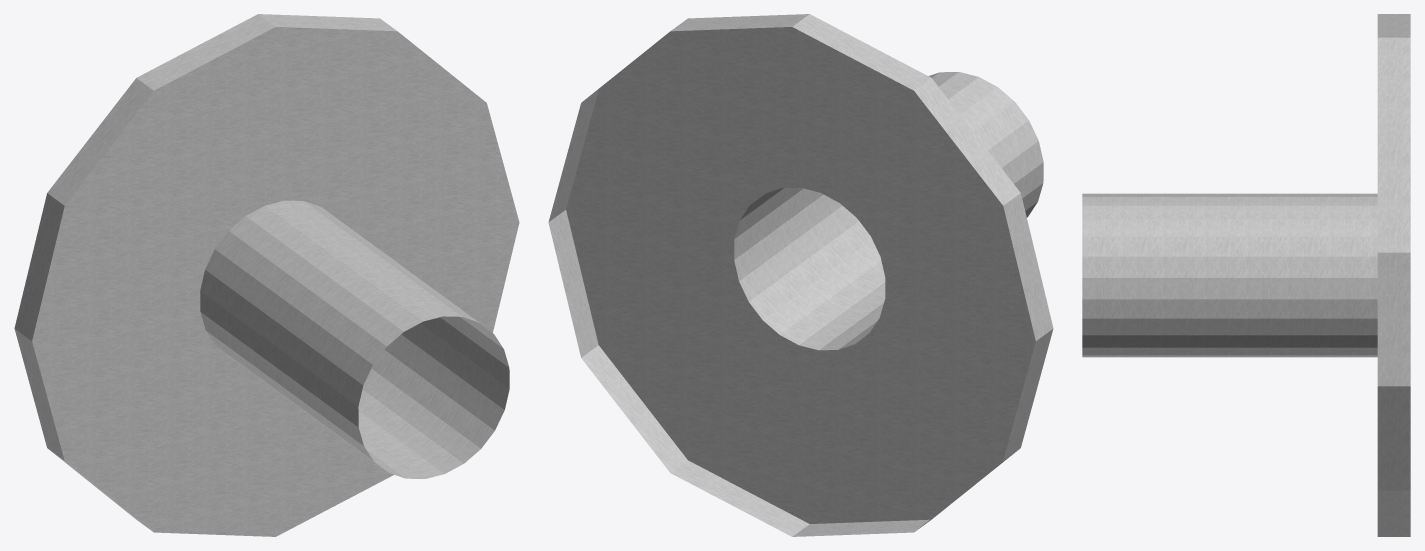
File: base_robot.dae
The picture shows the model from 3 angles, left to right: view 1: azimuth 30°, elevation 25°; view 2: azimuth 150°, elevation 25°; view 3: azimuth 270°, elevation 25°; orthographic projection. The views are drawn at different scales.
Parts seen in each view (by area): view 1: node; view 2: node; view 3: node.
Boxes of the visible parts, x1=… form: node: x1=14, y1=14, x2=519, y2=536; node: x1=548, y1=14, x2=1053, y2=536; node: x1=1082, y1=14, x2=1410, y2=536.
Bounding box in the file's own units: 0.32 × 0.32 × 0.2.
Materials: 1 (1 with a texture image).
